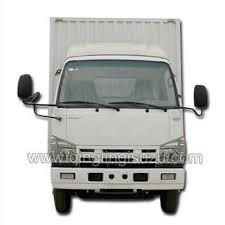truck: (14, 9, 218, 206)
